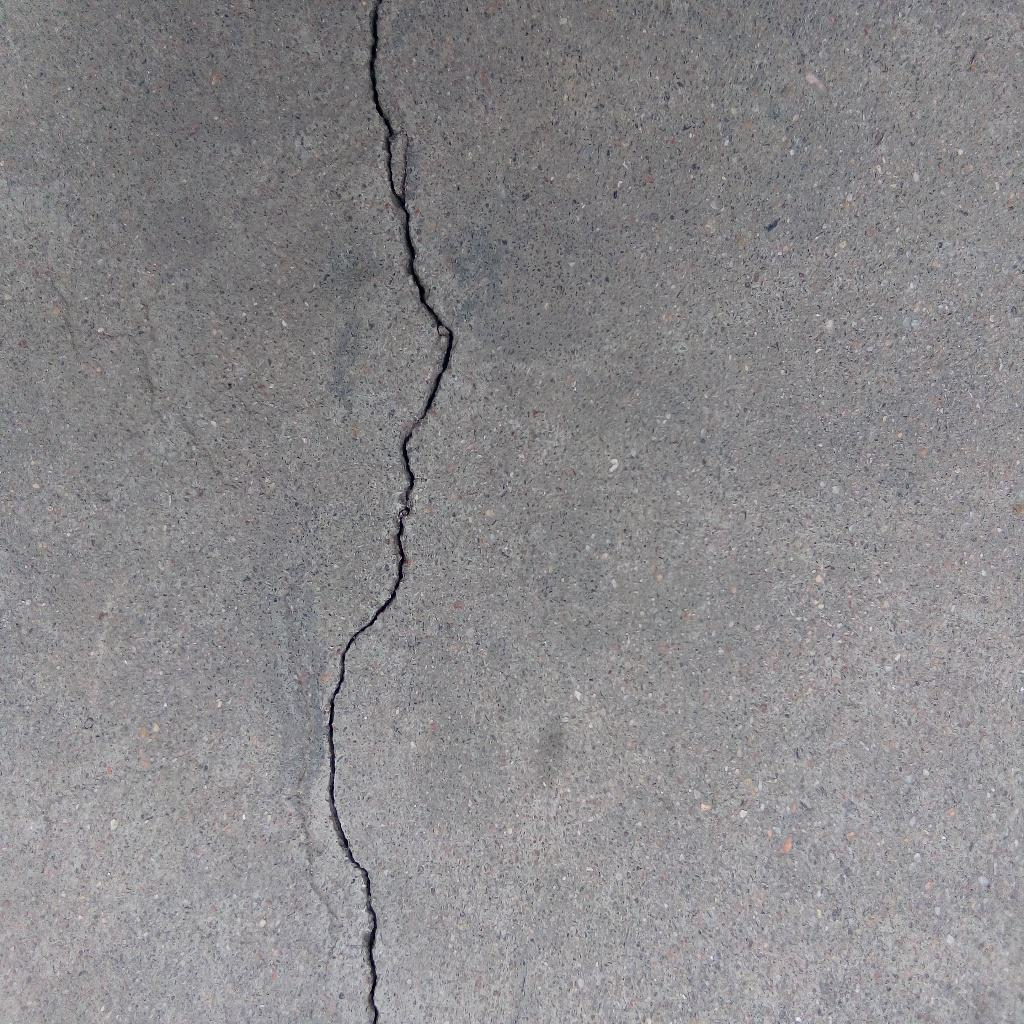Crack: (324, 1, 455, 1024)
